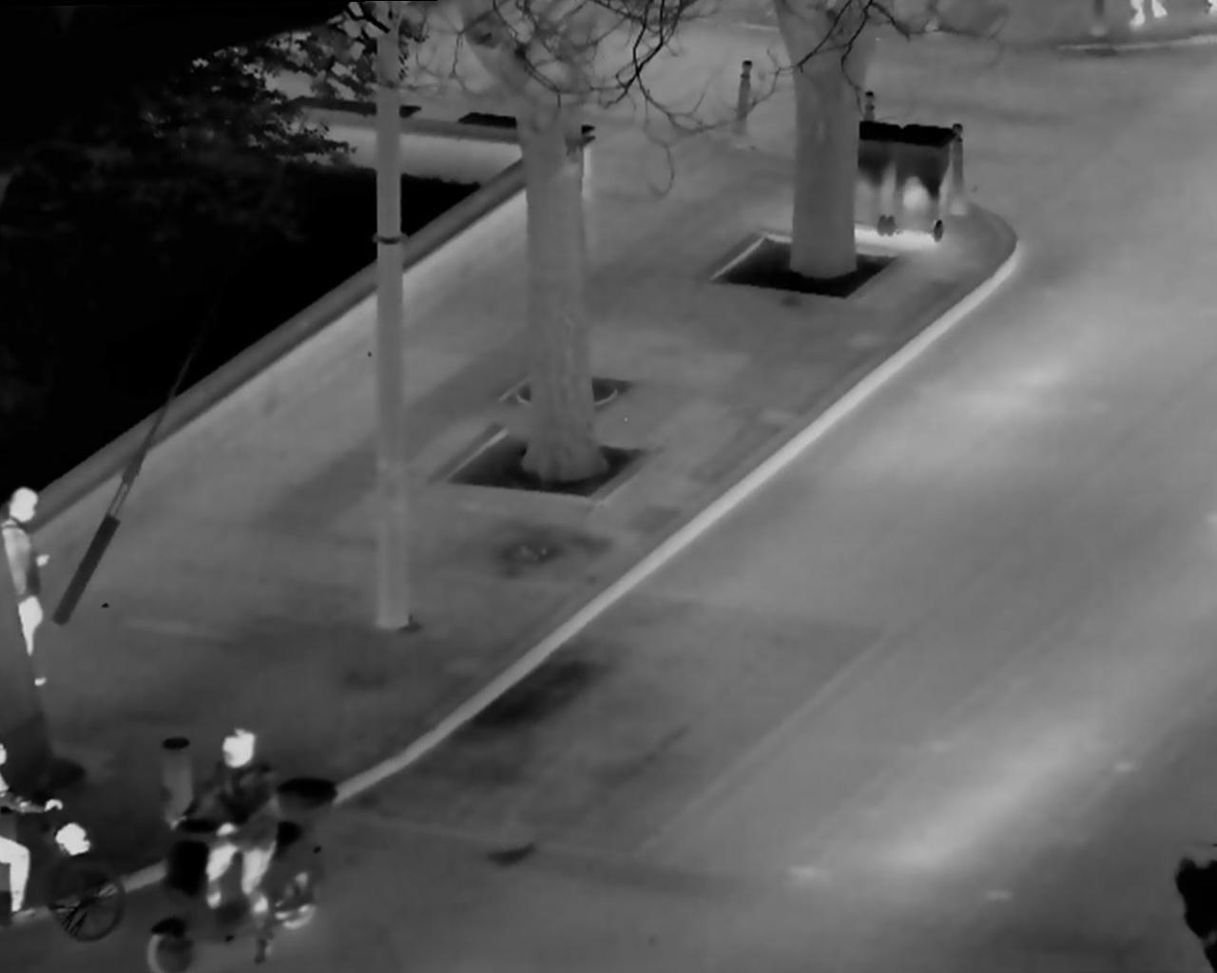person: (167, 717, 311, 926), (3, 480, 60, 701)
